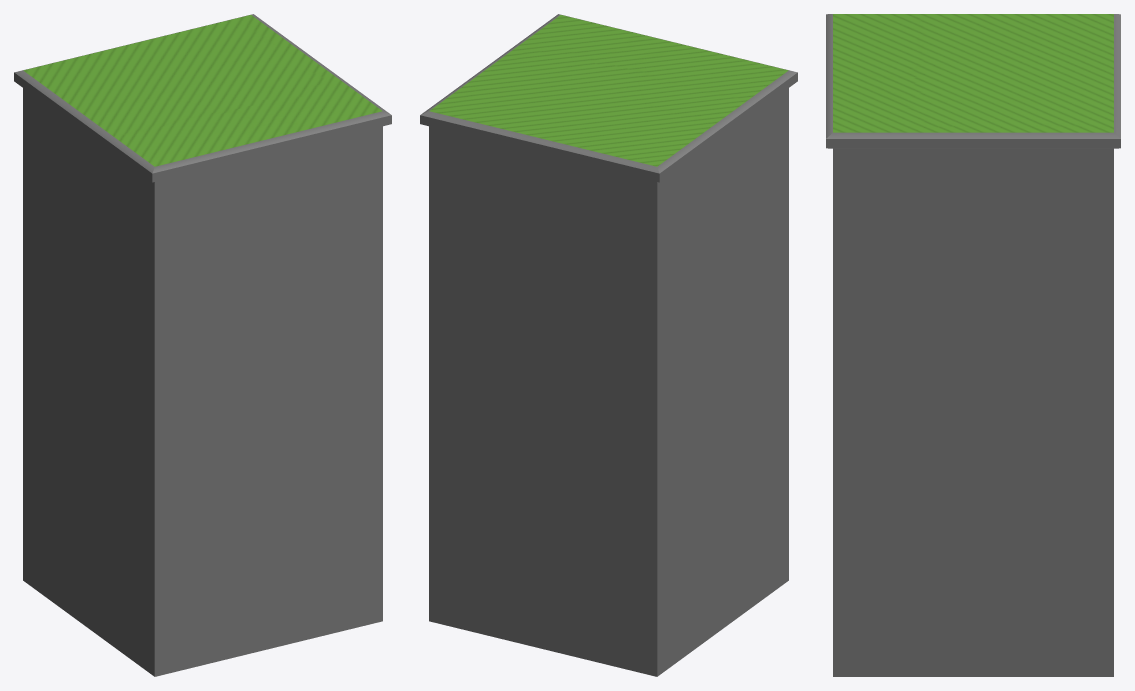
File: Stone 4.fbx
3 views of the same model, side by side, from view 1: azimuth 30°, elevation 25°; view 2: azimuth 150°, elevation 25°; view 3: azimuth 270°, elevation 25° (orthographic). The views are drawn at different scales.
Parts seen in each view (by area): view 1: Stone_4; view 2: Stone_4; view 3: Stone_4.
Boxes of the visible parts, bbox=[...] form: Stone_4: bbox=[14, 14, 391, 676]; Stone_4: bbox=[420, 14, 797, 676]; Stone_4: bbox=[826, 14, 1120, 676].
Bounding box in the file's own units: 4.2 × 8.55 × 4.2.
